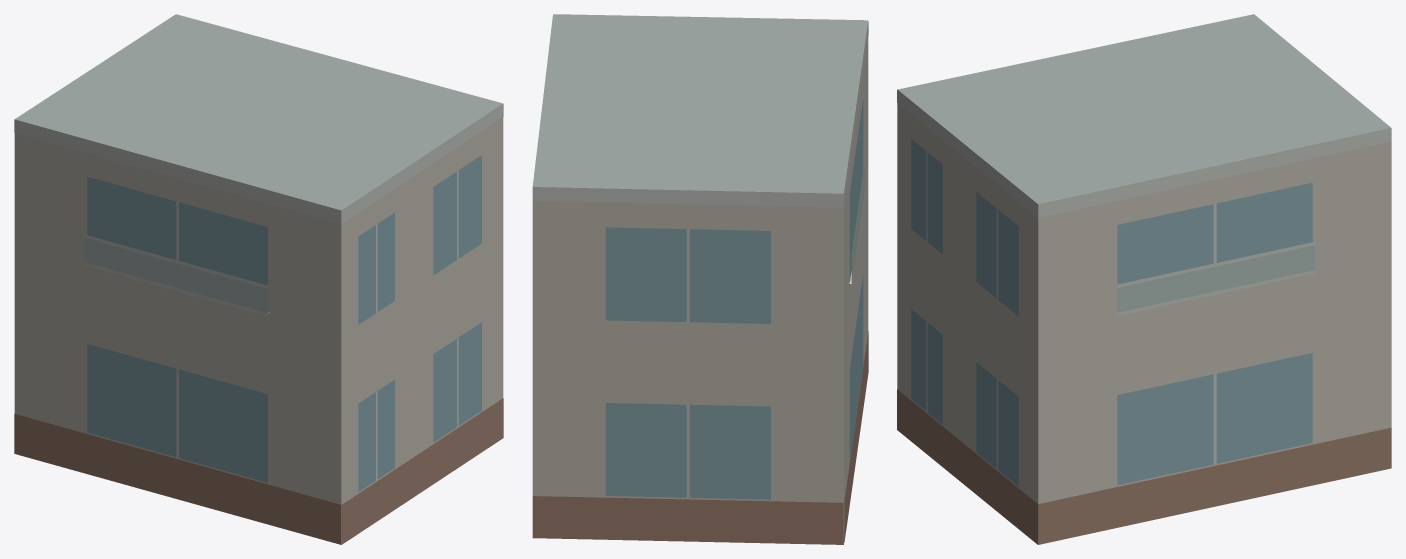
Rendered from survey-upis-32616666.glb.
3 views of the same model, side by side, from view 1: azimuth 30°, elevation 25°; view 2: azimuth 150°, elevation 25°; view 3: azimuth 270°, elevation 25° (orthographic). The views are drawn at different scales.
Visible parts, largest first — view 1: survey-upis-32616666.tmp; view 2: survey-upis-32616666.tmp; view 3: survey-upis-32616666.tmp.
Boxes of the visible parts, x1,y1,x2,y2 form: survey-upis-32616666.tmp: (14,14,503,544); survey-upis-32616666.tmp: (532,14,868,544); survey-upis-32616666.tmp: (897,14,1391,544).
Bounding box in the file's own units: 7.32 × 6.1 × 8.03.
